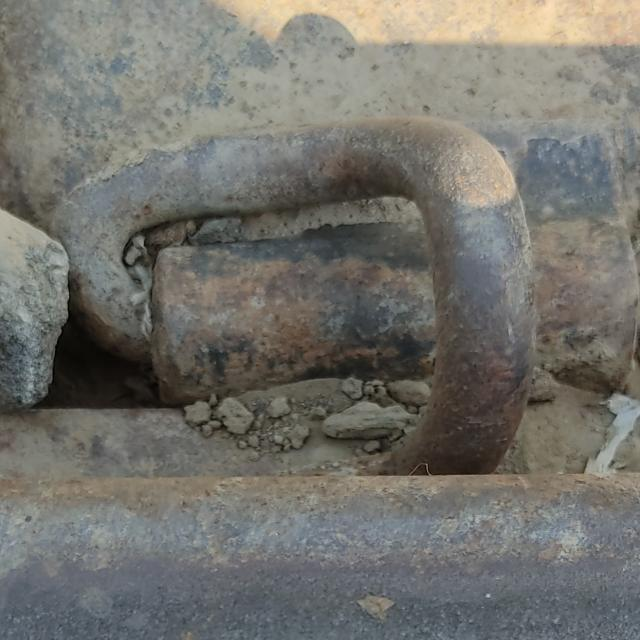track_bolt: (46, 109, 540, 471)
